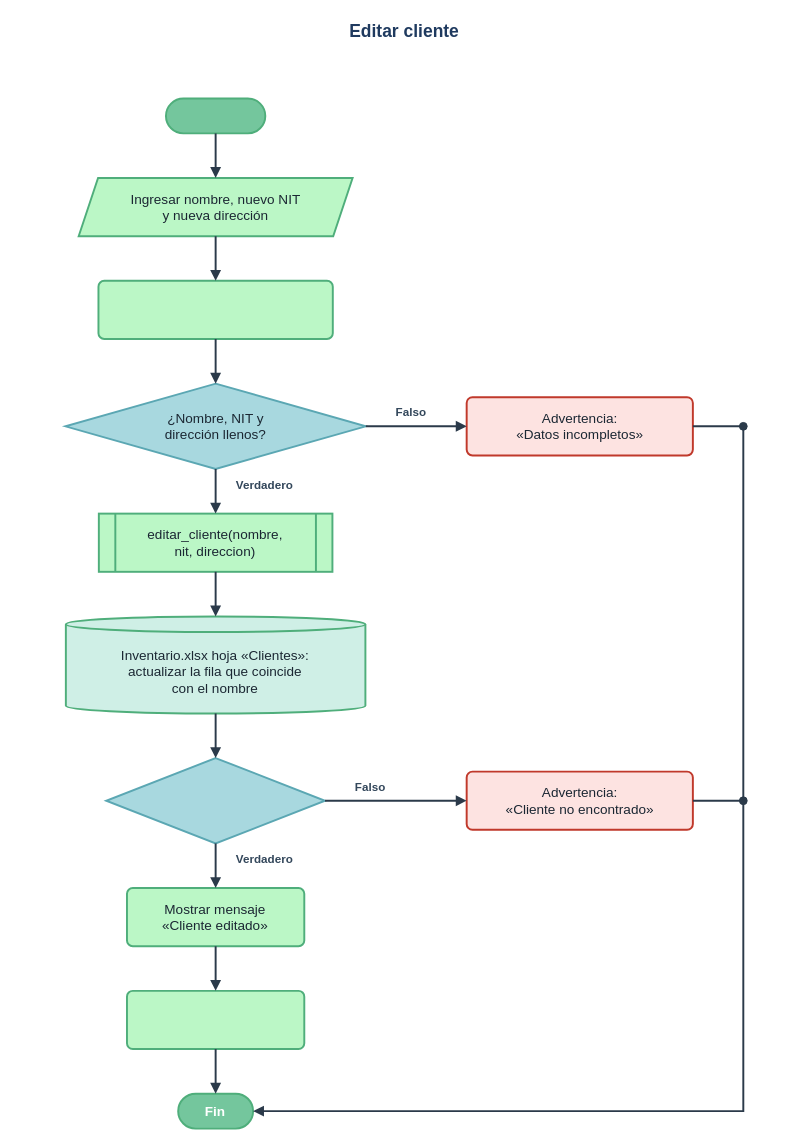
This 807x1146 diagram has some shape labels left out. Each missing label, with the centre of its shape:
Inicio: (x=215, y=115)
Leer los campos y quitar espacios (strip): (x=215, y=309)
limpiar() y cargar_clientes(): (x=215, y=1019)
¿Se encontró el cliente?: (x=215, y=800)
